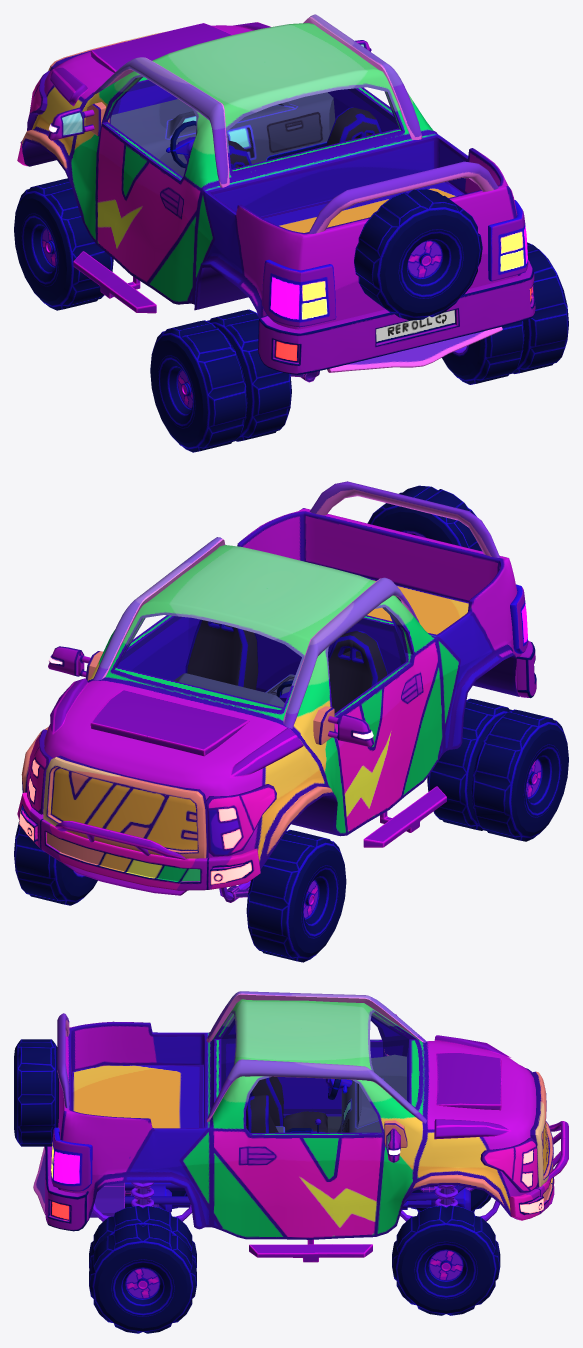
3 views of the same model, one above another, from view 1: azimuth 30°, elevation 25°; view 2: azimuth 150°, elevation 25°; view 3: azimuth 270°, elevation 25° (orthographic). The views are drawn at different scales.
Visible parts, largest first — view 1: VIPE_Wagon, Tire_07, Tire_tireFL, Tire_tireBL, Tire_05, Tire_tireBR; view 2: VIPE_Wagon, Tire_07, Tire_tireFL, Tire_tireBL, Tire_tireFR; view 3: VIPE_Wagon, Tire_tireFR, Tire_05, Tire_tireBR.
Part boxes in pixels (x1,y1,x2,y2): VIPE_Wagon: (17,14,535,382); Tire_07: (150,320,247,452); Tire_tireFL: (14,178,113,310); Tire_tireBL: (207,309,291,441); Tire_05: (513,242,568,373); Tire_tireBR: (442,321,524,384); VIPE_Wagon: (17,481,536,902); Tire_07: (471,709,568,841); Tire_tireFL: (246,829,346,962); Tire_tireBL: (427,698,512,830); Tire_tireFR: (14,821,97,905); VIPE_Wagon: (14,991,568,1262); Tire_tireFR: (392,1205,500,1315); Tire_05: (89,1224,196,1333); Tire_tireBR: (89,1206,196,1269).
Size of the model in its own units: 2.89 by 2.09 by 4.47.
4 materials, 4 textured.
